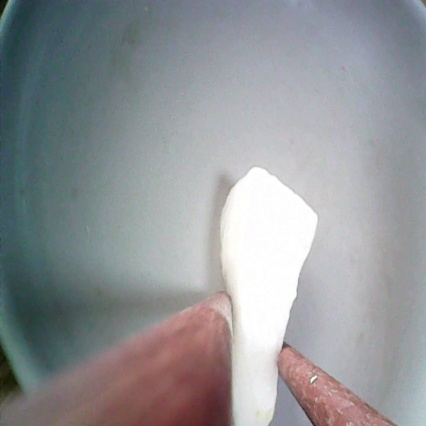white_chinese-yam: (212, 162, 322, 426)
